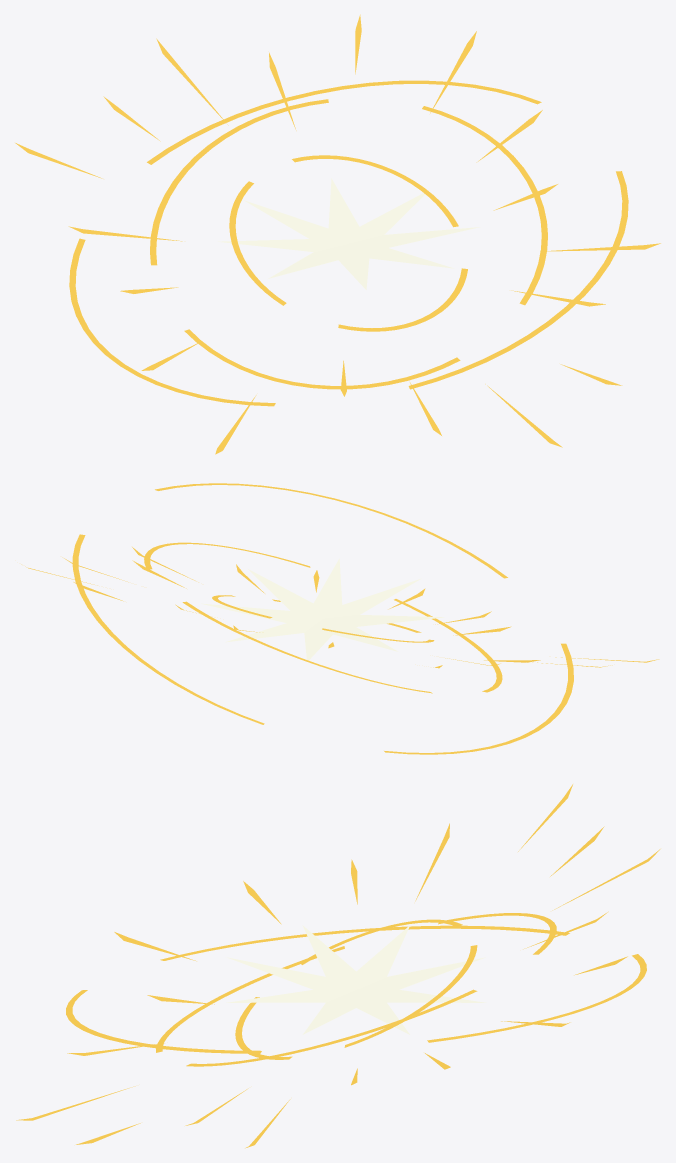
File: golf.glb
3 views of the same model, one above another, from view 1: azimuth 30°, elevation 25°; view 2: azimuth 150°, elevation 25°; view 3: azimuth 270°, elevation 25° (orthographic). The views are drawn at different scales.
Visible parts, largest first — view 1: OrbitRibbons, Core, SparkRays; view 2: Core, OrbitRibbons, SparkRays; view 3: Core, OrbitRibbons, SparkRays.
Boxes of the visible parts, left/top/right/bottom form: OrbitRibbons: left=69, top=80, right=628, bottom=406; Core: left=218, top=178, right=480, bottom=289; SparkRays: left=15, top=14, right=660, bottom=454; Core: left=201, top=558, right=444, bottom=660; OrbitRibbons: left=72, top=483, right=573, bottom=754; SparkRays: left=21, top=547, right=659, bottom=668; Core: left=226, top=925, right=486, bottom=1034; OrbitRibbons: left=66, top=913, right=646, bottom=1066; SparkRays: left=16, top=784, right=660, bottom=1148.
Bounding box in the file's own units: 0.2359 × 0.0907 × 0.2406.
